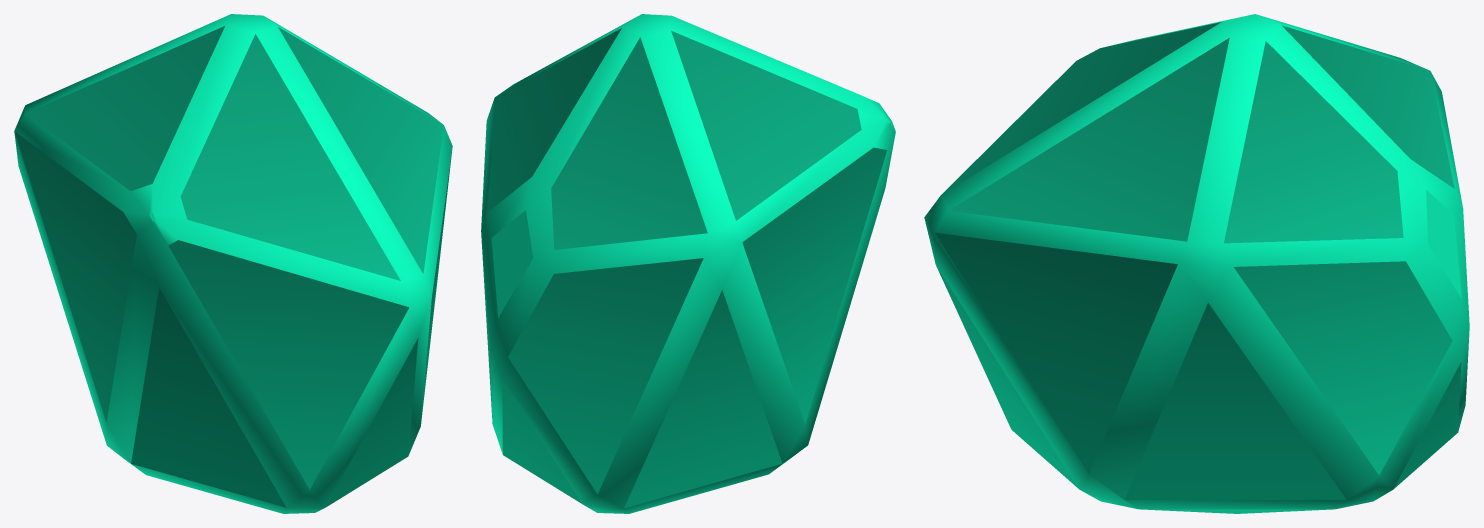
Rendered from Cristal_v3.fbx.
3 views of the same model, side by side, from view 1: azimuth 30°, elevation 25°; view 2: azimuth 150°, elevation 25°; view 3: azimuth 270°, elevation 25° (orthographic). The views are drawn at different scales.
Visible parts, largest first — view 1: Cristal_v3; view 2: Cristal_v3; view 3: Cristal_v3.
Boxes of the visible parts, box(x1,y1,x2,y2) form: Cristal_v3: box(14, 14, 452, 513); Cristal_v3: box(481, 14, 895, 513); Cristal_v3: box(924, 14, 1469, 513).
Size of the model in its own units: 0.7602 by 0.9802 by 0.9578.
